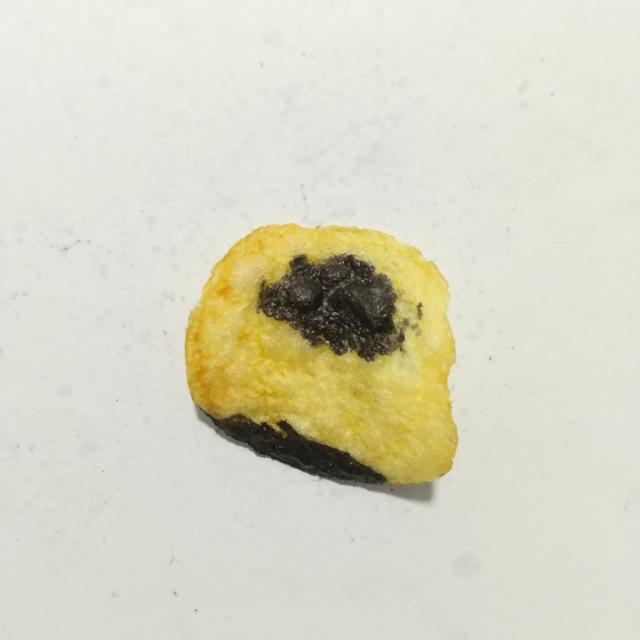chip: (185, 224, 457, 484)
damaged: (259, 255, 404, 360), (196, 406, 386, 484)
semi-damaged: (417, 302, 423, 319), (402, 318, 410, 326), (411, 323, 419, 330)
